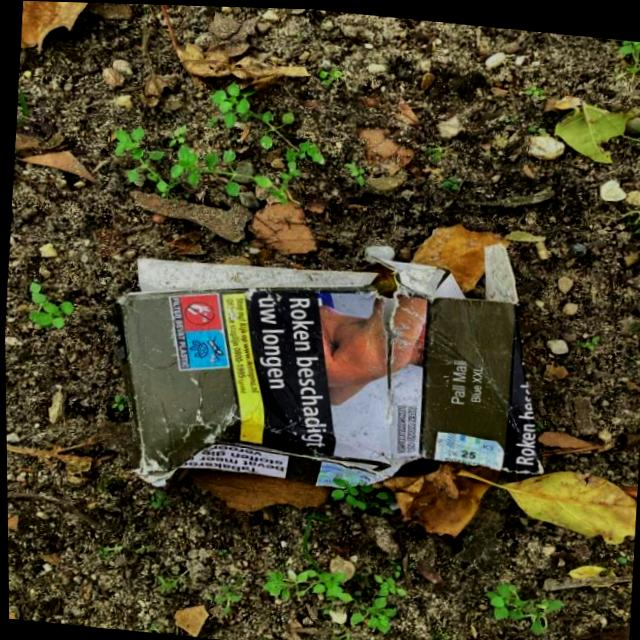Paper: (94, 197, 560, 525)
